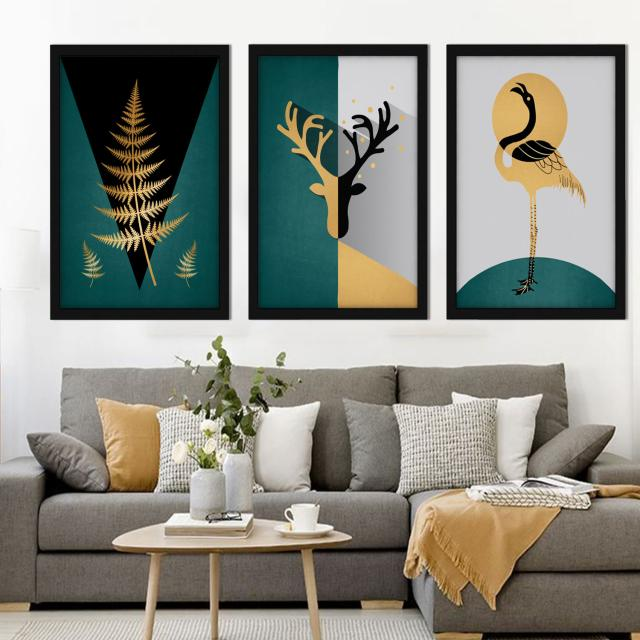painting: (52, 44, 231, 319), (250, 43, 429, 318), (448, 42, 627, 317)
